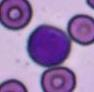L: (26, 24, 72, 66)
